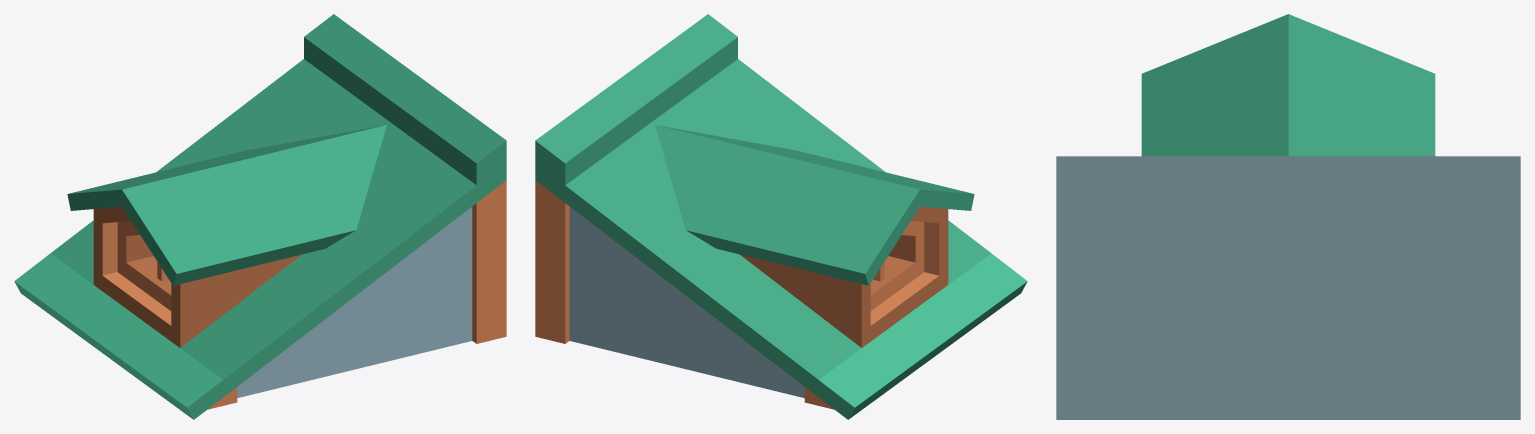
File: roofWindow.obj
3 views of the same model, side by side, from view 1: azimuth 30°, elevation 25°; view 2: azimuth 150°, elevation 25°; view 3: azimuth 270°, elevation 25° (orthographic). The views are drawn at different scales.
Visible parts, largest first — view 1: roofWindow; view 2: roofWindow; view 3: roofWindow.
Part boxes in pixels (x1,y1,x2,y2): roofWindow: (14,14,506,419); roofWindow: (535,14,1027,419); roofWindow: (1056,14,1520,419).
Size of the model in its own units: 1.07 by 0.648 by 1.
